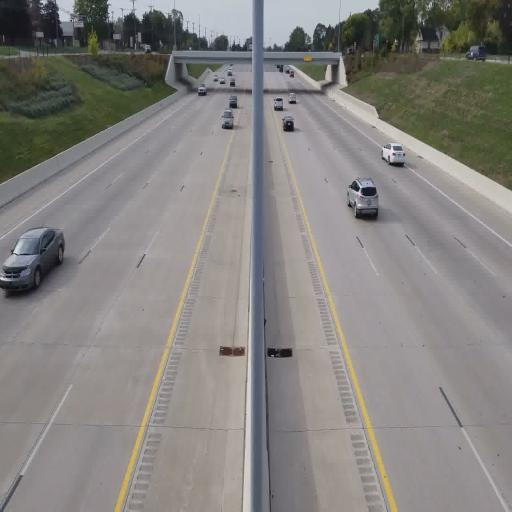Car: (0, 226, 66, 292), (346, 176, 379, 219), (381, 142, 406, 166), (221, 108, 234, 129), (282, 113, 294, 132), (273, 97, 284, 110), (229, 94, 239, 108), (198, 83, 207, 96), (289, 92, 296, 104)
